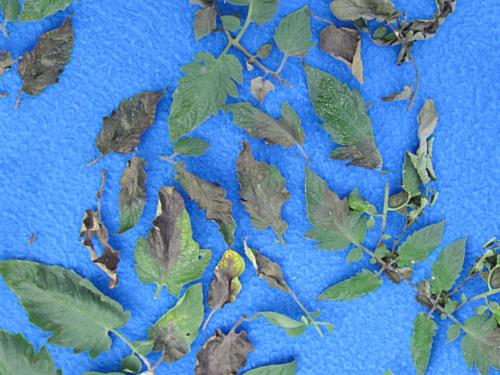Tomato leaf late blight: (0, 217, 149, 375), (270, 54, 413, 188), (97, 176, 234, 314), (134, 35, 256, 168), (270, 163, 385, 274), (208, 142, 322, 251), (152, 151, 263, 255), (215, 78, 322, 177), (79, 147, 176, 250), (134, 276, 229, 375), (315, 249, 387, 326)
